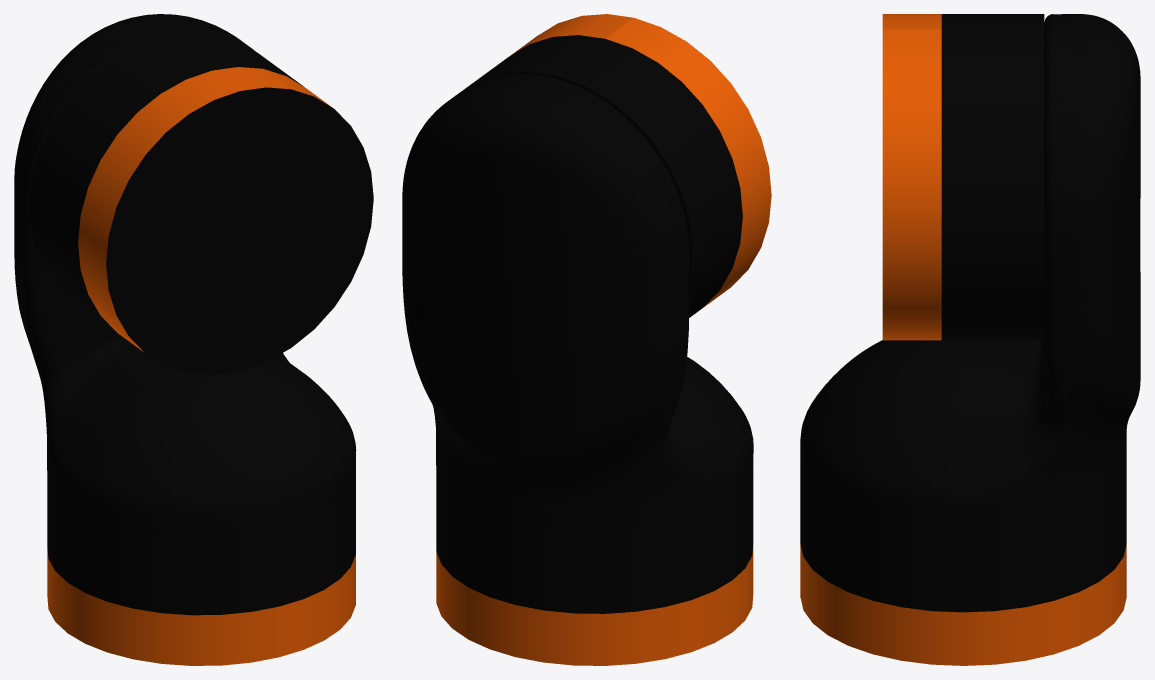
The model's file is Joint1.dae.
3 renders of one model, left to right at view 1: azimuth 30°, elevation 25°; view 2: azimuth 150°, elevation 25°; view 3: azimuth 270°, elevation 25°, orthographic. The views are drawn at different scales.
Parts seen in each view (by area): view 1: Object-1.001; view 2: Object-1.001; view 3: Object-1.001.
Part boxes in pixels (box(x1,y1,x2,y2)): Object-1.001: box(14, 14, 373, 665); Object-1.001: box(402, 14, 771, 665); Object-1.001: box(800, 14, 1140, 665).
Bounding box in the file's own units: 0.105 × 0.1095 × 0.2015.
